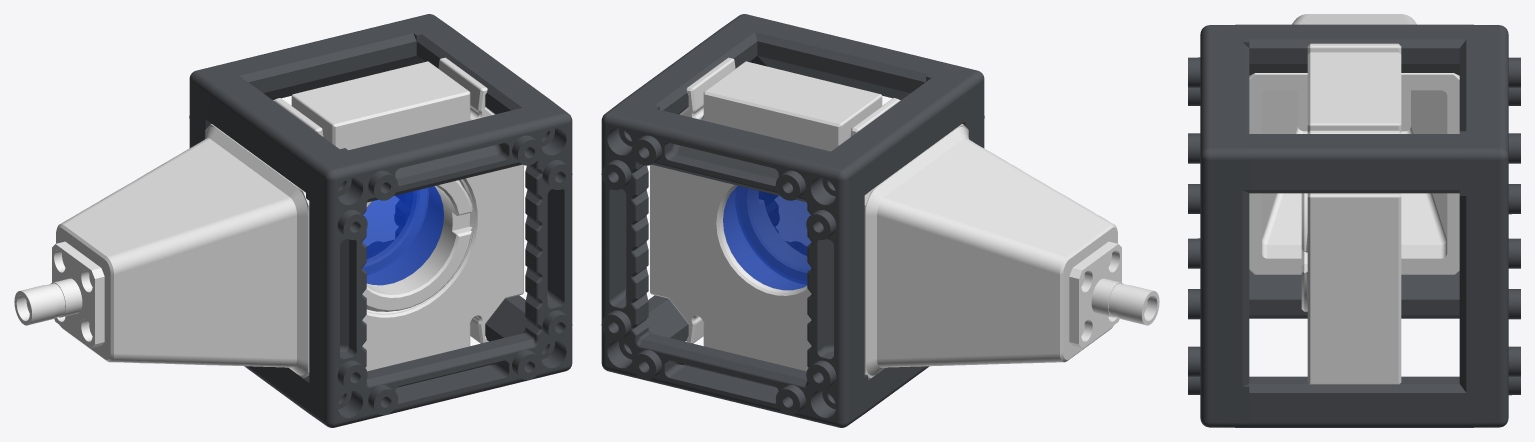
Rendered from ASS_-_2037_-_CUBLEND25F60+FIBHOL_-_V04.glb.
3 renders of one model, left to right at view 1: azimuth 30°, elevation 25°; view 2: azimuth 150°, elevation 25°; view 3: azimuth 270°, elevation 25°, orthographic. The views are drawn at different scales.
Visible parts, largest first — view 1: PRT - 1003 - CUBHLF111 - V04:2, PRT - 2137 - FIBMNT - V04:1, PRT - 2135 - INSLEND25F60 - V04:1, PRT - 1003 - CUBHLF111 - V04:1, BUY - Lens - f60 D25 sA8.2 sI10.5 cv-cx:1, BUY - Fiber holer - SMA:1, PRT - 2136 - SLTNUTD25:1; view 2: PRT - 1003 - CUBHLF111 - V04:1, PRT - 2137 - FIBMNT - V04:1, PRT - 2135 - INSLEND25F60 - V04:1, PRT - 1003 - CUBHLF111 - V04:2, BUY - Lens - f60 D25 sA8.2 sI10.5 cv-cx:1, BUY - Fiber holer - SMA:1, PRT - 2136 - SLTNUTD25:1; view 3: PRT - 1003 - CUBHLF111 - V04:1, PRT - 1003 - CUBHLF111 - V04:2, PRT - 2135 - INSLEND25F60 - V04:1, PRT - 2137 - FIBMNT - V04:1, PRT - 2136 - SLTNUTD25:1.
Part boxes in pixels (x1,y1,x2,y2): PRT - 1003 - CUBHLF111 - V04:2: (244,27,572,427); PRT - 2137 - FIBMNT - V04:1: (56,124,309,378); PRT - 2135 - INSLEND25F60 - V04:1: (274,57,523,371); PRT - 1003 - CUBHLF111 - V04:1: (189,14,546,350); BUY - Lens - f60 D25 sA8.2 sI10.5 cv-cx:1: (362,186,443,285); BUY - Fiber holer - SMA:1: (14,241,104,347); PRT - 2136 - SLTNUTD25:1: (362,180,472,311); PRT - 1003 - CUBHLF111 - V04:1: (601,78,965,427); PRT - 2137 - FIBMNT - V04:1: (864,124,1117,378); PRT - 2135 - INSLEND25F60 - V04:1: (650,57,899,371); PRT - 1003 - CUBHLF111 - V04:2: (625,14,984,412); BUY - Lens - f60 D25 sA8.2 sI10.5 cv-cx:1: (723,186,811,290); BUY - Fiber holer - SMA:1: (1069,241,1159,347); PRT - 2136 - SLTNUTD25:1: (735,186,810,284); PRT - 1003 - CUBHLF111 - V04:1: (1249,24,1520,427); PRT - 1003 - CUBHLF111 - V04:2: (1188,24,1459,427); PRT - 2135 - INSLEND25F60 - V04:1: (1307,43,1401,384); PRT - 2137 - FIBMNT - V04:1: (1249,14,1459,274); PRT - 2136 - SLTNUTD25:1: (1301,193,1307,311).
Bounding box in the file's own units: 97 × 49.8 × 53.8.
